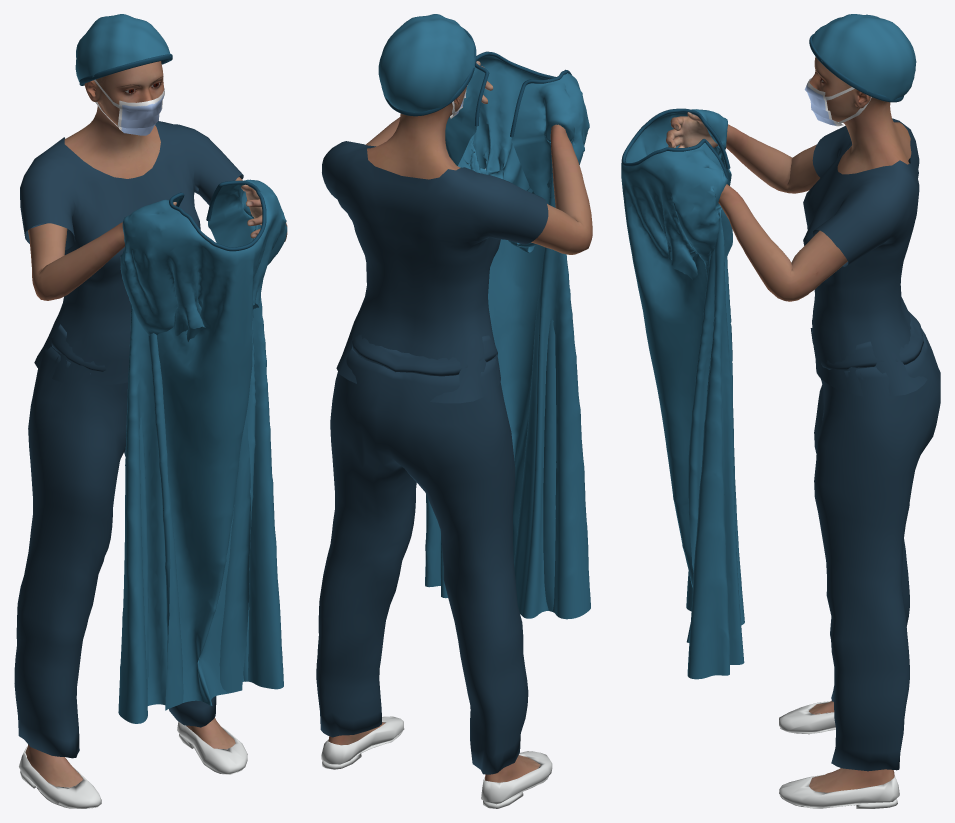
The model's file is paso-2.glb.
The picture shows the model from 3 angles, left to right: view 1: azimuth 30°, elevation 25°; view 2: azimuth 150°, elevation 25°; view 3: azimuth 270°, elevation 25°; orthographic projection.
Parts seen in each view (by area): view 1: gown, Human.toigo_wool_pants-static, Human.joepal_crude_t-shirt_female-static, Human-static, surgical-cap, Human.toigo_flats-static, Human.joepal_medical_mouth_protection-static, neck-binding, cap-elastic; view 2: Human.toigo_wool_pants-static, gown, Human.joepal_crude_t-shirt_female-static, Human-static, surgical-cap, Human.toigo_flats-static, neck-binding, cap-elastic; view 3: gown, Human.toigo_wool_pants-static, Human.joepal_crude_t-shirt_female-static, Human-static, surgical-cap, Human.toigo_flats-static, neck-binding, Human.joepal_medical_mouth_protection-static, cap-elastic.
Part boxes in pixels (<box>): gown: <box>118,179,287,723</box>; Human.toigo_wool_pants-static: <box>14,324,216,758</box>; Human.joepal_crude_t-shirt_female-static: <box>20,121,243,384</box>; Human-static: <box>25,61,287,787</box>; surgical-cap: <box>75,14,170,81</box>; Human.toigo_flats-static: <box>19,721,247,808</box>; Human.joepal_medical_mouth_protection-static: <box>94,79,164,135</box>; neck-binding: <box>169,180,266,251</box>; cap-elastic: <box>79,54,172,85</box>; Human.toigo_wool_pants-static: <box>316,334,528,774</box>; gown: <box>425,55,590,619</box>; Human.joepal_crude_t-shirt_female-static: <box>322,141,548,403</box>; Human-static: <box>328,61,592,782</box>; surgical-cap: <box>378,14,474,112</box>; Human.toigo_flats-static: <box>321,716,552,808</box>; neck-binding: <box>474,51,571,137</box>; cap-elastic: <box>383,28,476,116</box>; gown: <box>621,109,744,679</box>; Human.toigo_wool_pants-static: <box>810,311,940,771</box>; Human.joepal_crude_t-shirt_female-static: <box>803,118,927,396</box>; Human-static: <box>666,56,911,792</box>; surgical-cap: <box>812,14,916,100</box>; Human.toigo_flats-static: <box>779,701,899,808</box>; neck-binding: <box>621,108,730,184</box>; Human.joepal_medical_mouth_protection-static: <box>804,78,871,126</box>; cap-elastic: <box>809,34,903,102</box>.
Size of the model in its own units: 0.5918 by 1.7 by 0.6608.
16 materials, 9 textured.
